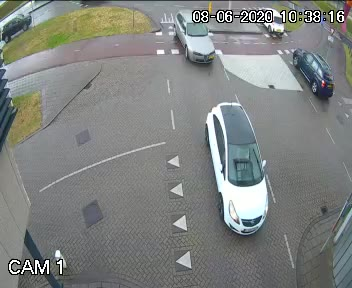car: (195, 96, 282, 243), (170, 10, 224, 76), (287, 46, 339, 104), (251, 6, 287, 40), (1, 13, 39, 42)
